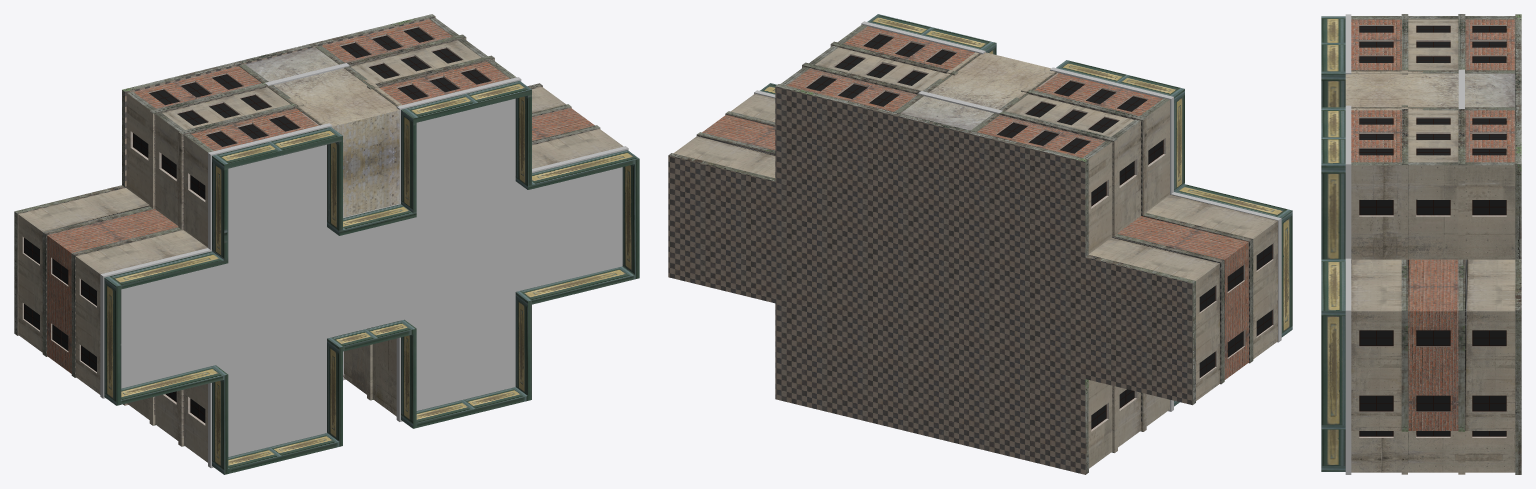
The model's file is Building1.obj.
3 renders of one model, left to right at view 1: azimuth 30°, elevation 25°; view 2: azimuth 150°, elevation 25°; view 3: azimuth 270°, elevation 25°, orthographic.
Visible parts, largest first — view 1: pCube34; view 2: pCube34; view 3: pCube34.
Part boxes in pixels (<box>): pCube34: <box>14,14,639,474</box>; pCube34: <box>668,14,1292,474</box>; pCube34: <box>1321,14,1521,474</box>.
Bounding box in the file's own units: 2.06 × 1.17 × 0.687.
